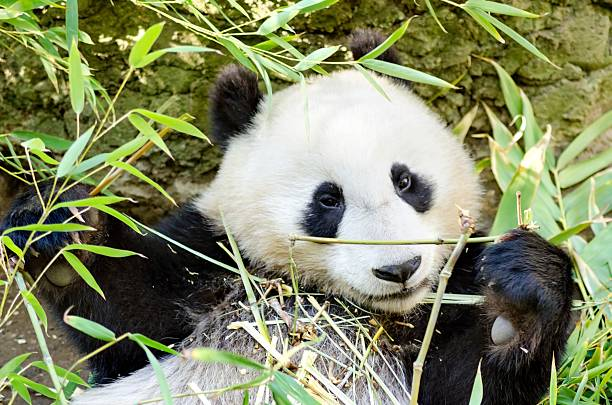panda: (178, 33, 495, 331)
